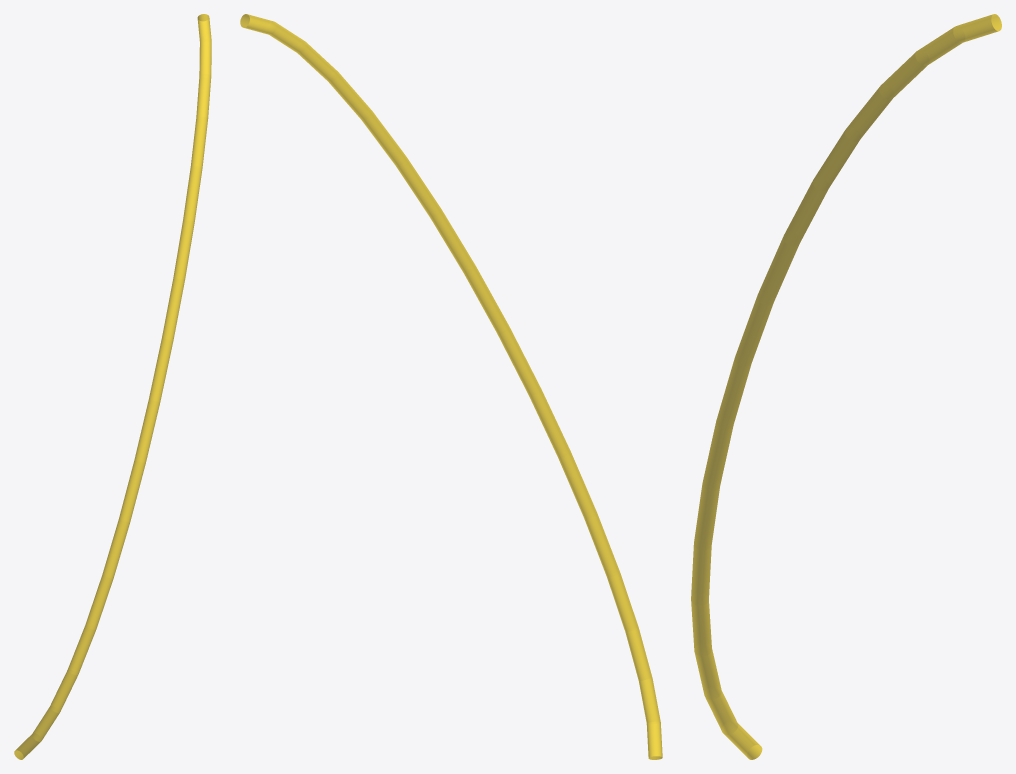
Rendered from Event_419990632_track_5.fbx.
3 views of the same model, side by side, from view 1: azimuth 30°, elevation 25°; view 2: azimuth 150°, elevation 25°; view 3: azimuth 270°, elevation 25° (orthographic). The views are drawn at different scales.
Parts seen in each view (by area): view 1: Model; view 2: Model; view 3: Model.
Part boxes in pixels (x1=…): Model: x1=14, y1=14, x2=211, y2=759; Model: x1=240, y1=14, x2=662, y2=759; Model: x1=691, y1=14, x2=1001, y2=759.
Size of the model in its own units: 1.06 by 2.3 by 0.6928.
